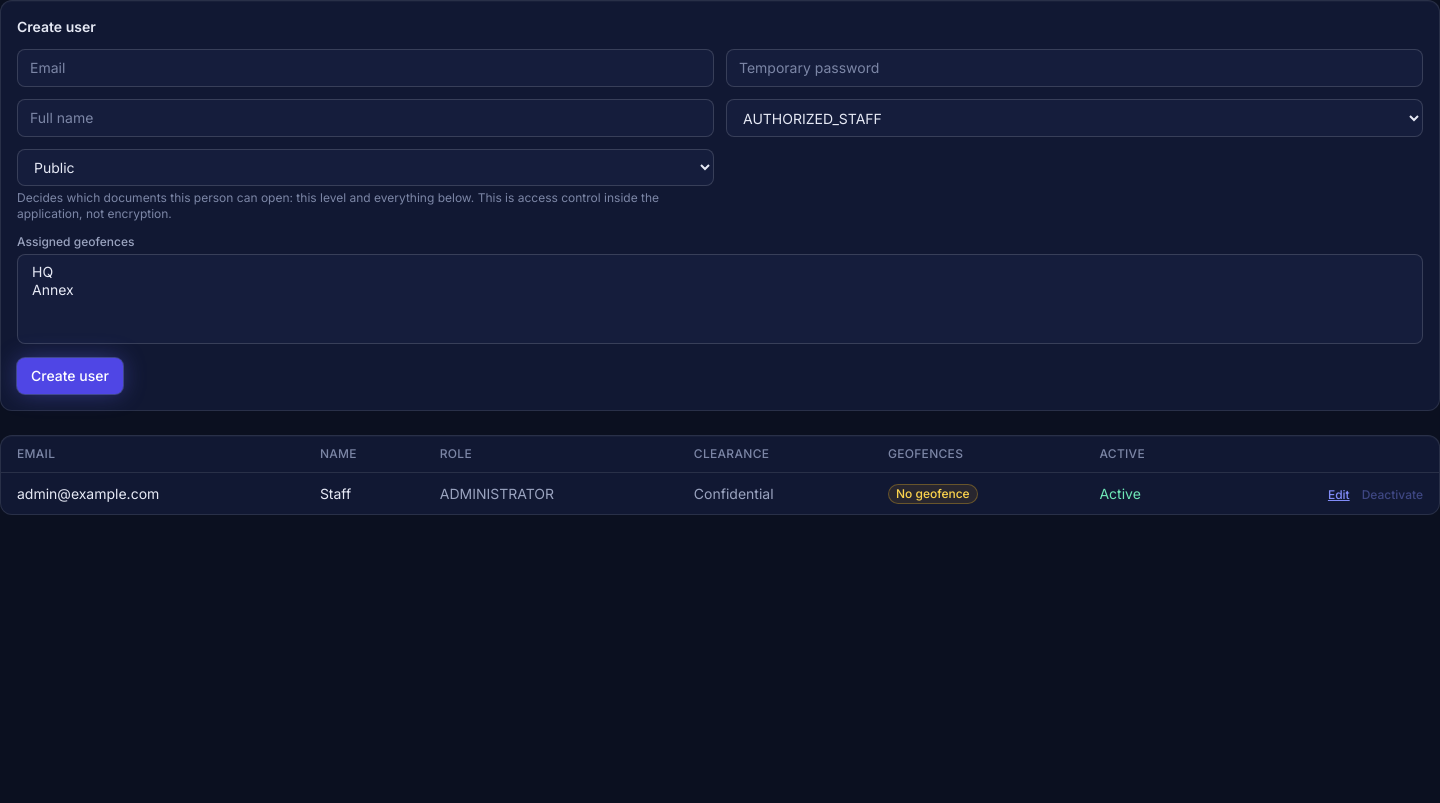
Scenario: UserManagementPanel editing › disables role change and self-deactivation on the admin's own row
Expected: the button "Deactivate" is disabled, [1362,486,1423,502]
Click the button "Edit" at (1339, 494), box [1328,486,1350,502]
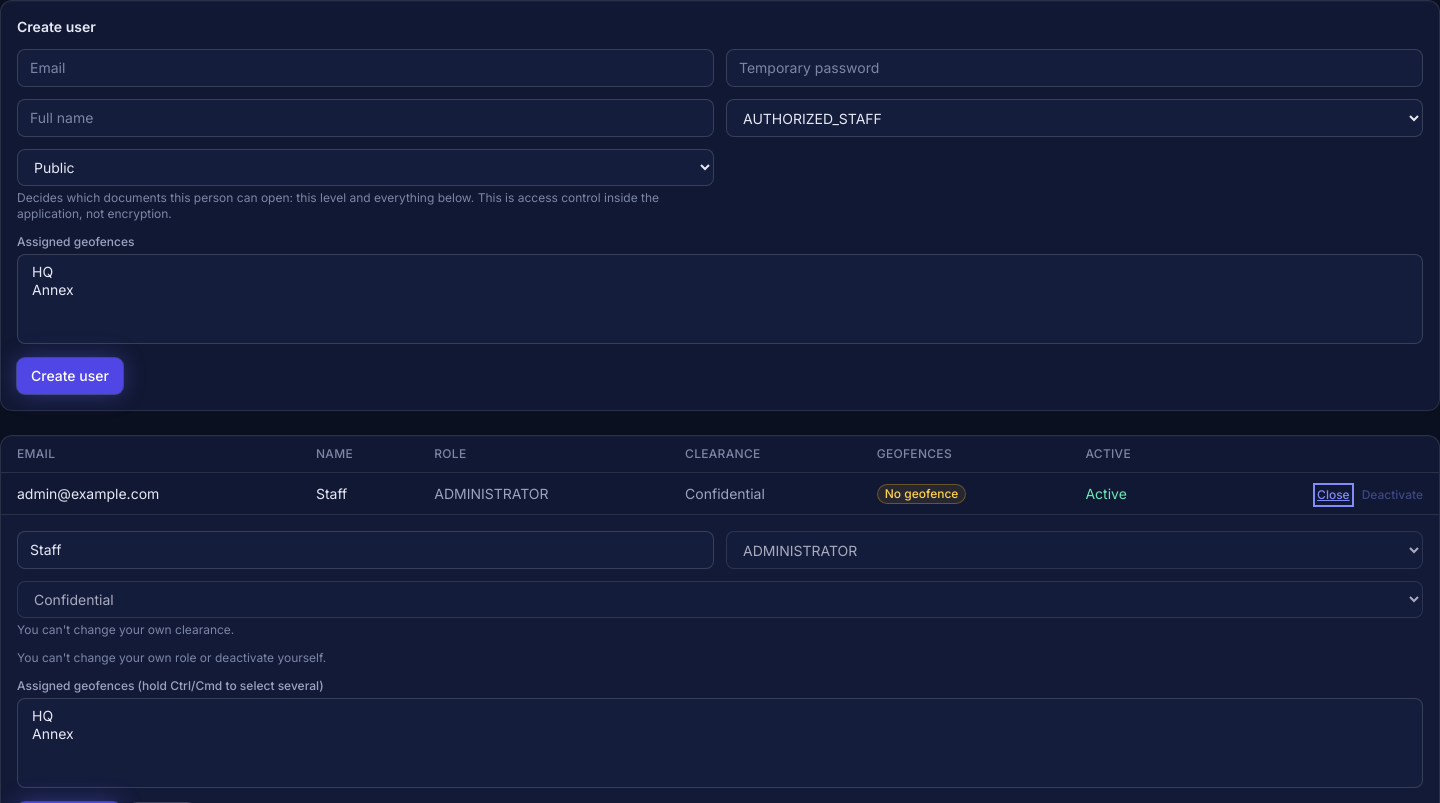
Result: the dropdown named "Role" is disabled at [726,531,1423,569]
